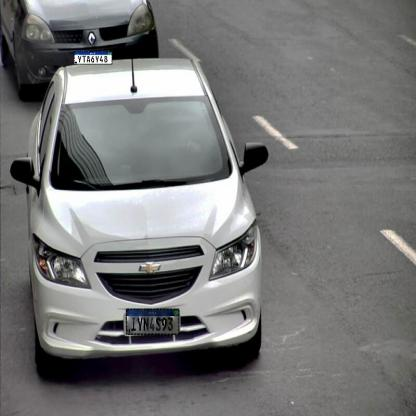PlacaM: (126, 308, 179, 335), (74, 52, 112, 64)
